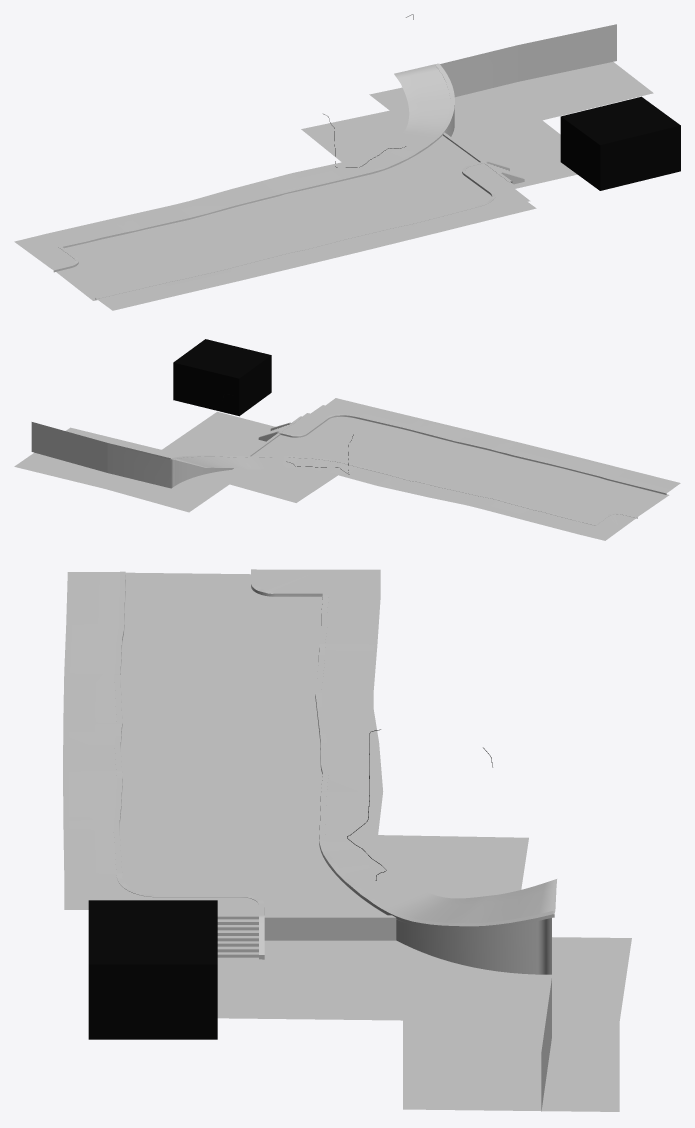
The model's file is Street.fbx.
The picture shows the model from 3 angles, top to bottom: view 1: azimuth 30°, elevation 25°; view 2: azimuth 150°, elevation 25°; view 3: azimuth 270°, elevation 25°; orthographic projection. The views are drawn at different scales.
Visible parts, largest first — view 1: LODGroup_1_MainMesh_1_SubMesh_4, LODGroup_1_MainMesh_1_SubMesh_2, LODGroup_1_MainMesh_1_SubMesh_3, LODGroup_1_MainMesh_1_SubMesh_5, LODGroup_1_MainMesh_1_SubMesh_1; view 2: LODGroup_1_MainMesh_1_SubMesh_4, LODGroup_1_MainMesh_1_SubMesh_2, LODGroup_1_MainMesh_1_SubMesh_3, LODGroup_1_MainMesh_1_SubMesh_5, LODGroup_1_MainMesh_1_SubMesh_1; view 3: LODGroup_1_MainMesh_1_SubMesh_4, LODGroup_1_MainMesh_1_SubMesh_2, LODGroup_1_MainMesh_1_SubMesh_3, LODGroup_1_MainMesh_1_SubMesh_5, LODGroup_1_MainMesh_1_SubMesh_1.
Boxes of the visible parts, bbox=[...] form: LODGroup_1_MainMesh_1_SubMesh_4: bbox=[56, 62, 653, 300]; LODGroup_1_MainMesh_1_SubMesh_2: bbox=[14, 132, 536, 310]; LODGroup_1_MainMesh_1_SubMesh_3: bbox=[323, 14, 680, 190]; LODGroup_1_MainMesh_1_SubMesh_5: bbox=[440, 24, 616, 184]; LODGroup_1_MainMesh_1_SubMesh_1: bbox=[394, 63, 454, 142]; LODGroup_1_MainMesh_1_SubMesh_4: bbox=[14, 405, 669, 523]; LODGroup_1_MainMesh_1_SubMesh_2: bbox=[246, 398, 680, 540]; LODGroup_1_MainMesh_1_SubMesh_3: bbox=[173, 339, 353, 474]; LODGroup_1_MainMesh_1_SubMesh_5: bbox=[31, 422, 278, 488]; LODGroup_1_MainMesh_1_SubMesh_1: bbox=[170, 455, 268, 469]; LODGroup_1_MainMesh_1_SubMesh_4: bbox=[120, 572, 631, 1111]; LODGroup_1_MainMesh_1_SubMesh_2: bbox=[63, 569, 419, 958]; LODGroup_1_MainMesh_1_SubMesh_3: bbox=[88, 729, 492, 1039]; LODGroup_1_MainMesh_1_SubMesh_5: bbox=[259, 918, 551, 1111]; LODGroup_1_MainMesh_1_SubMesh_1: bbox=[374, 879, 556, 929].
Bounding box in the file's own units: 7441 × 1225 × 3436.
